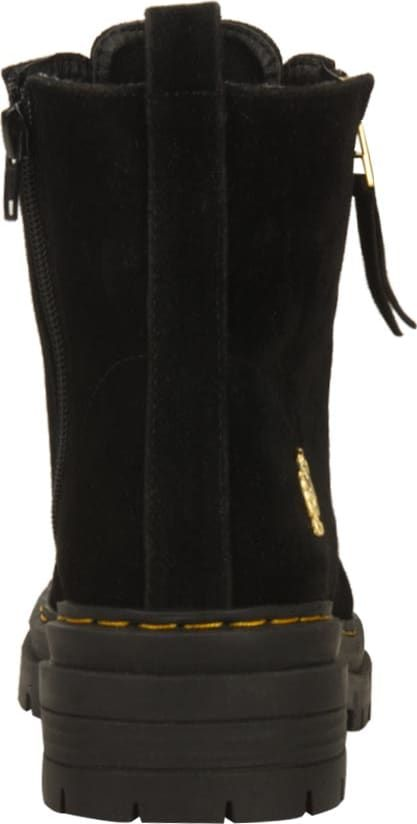gamuza: (3, 3, 417, 621)
